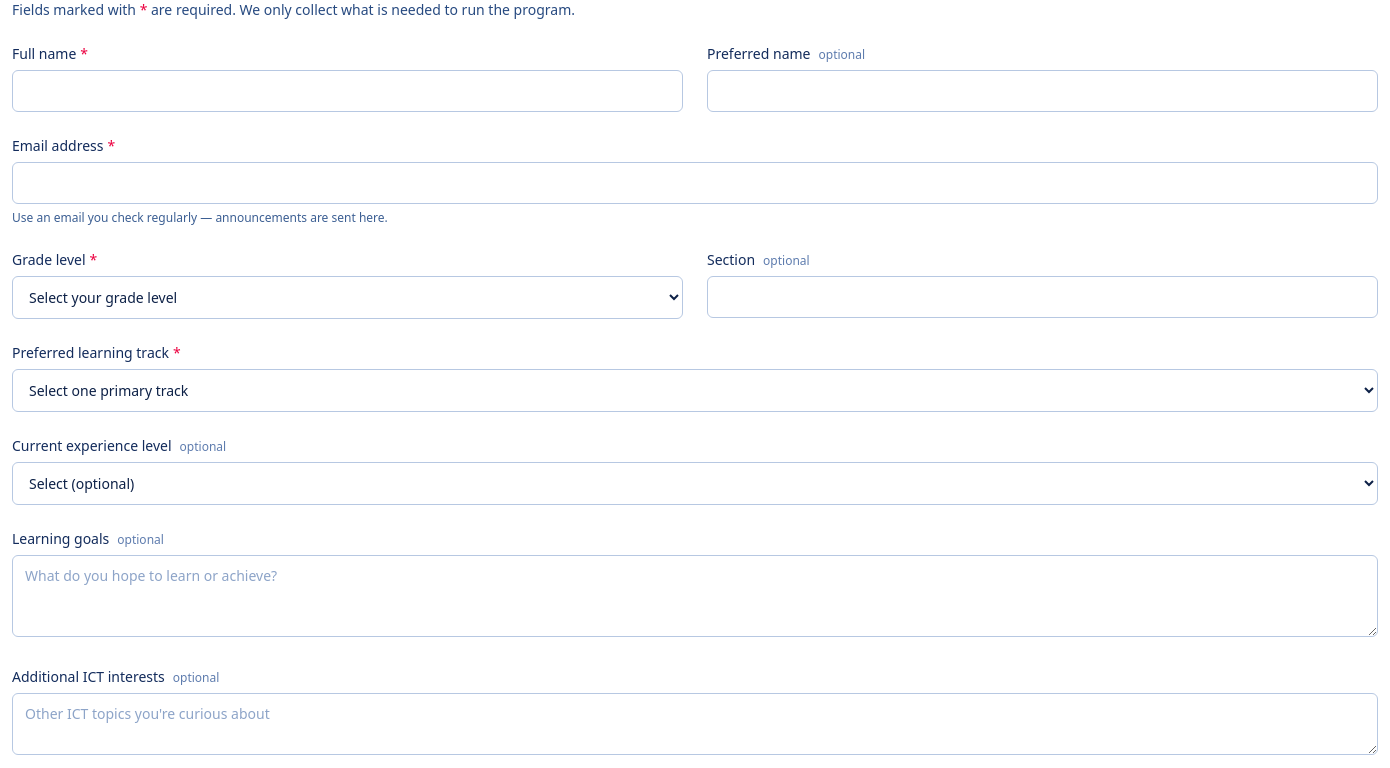
Test case: RegistrationForm › shows understandable inline errors and preserves entered data when submitting invalid input
This screenshot has width=1390, height=768.
Type "J" into the field labelled "Full name*" at (348,91), box [12,70,683,112]
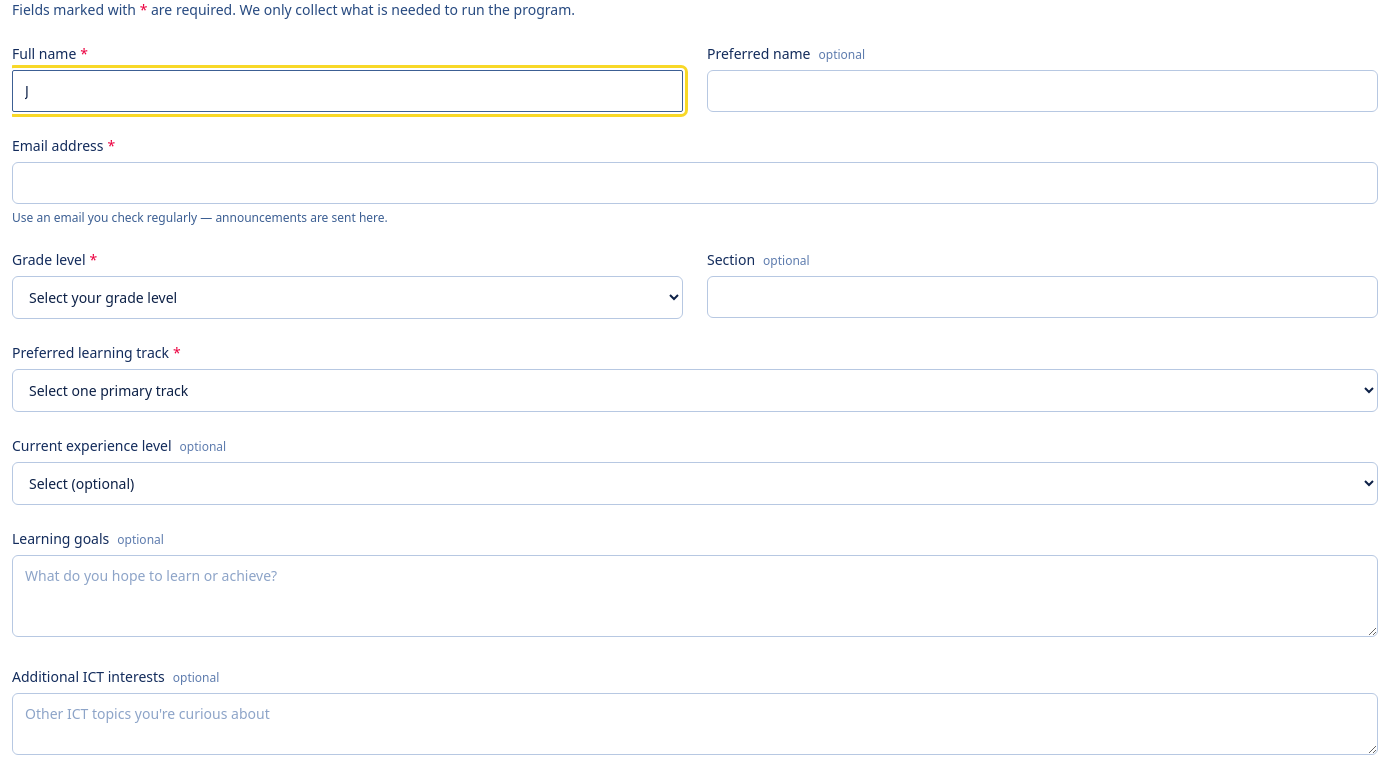
Type "not-an-email" into the field labelled "Email address*" at (695,183), box [12,162,1378,204]
(page scrolled)
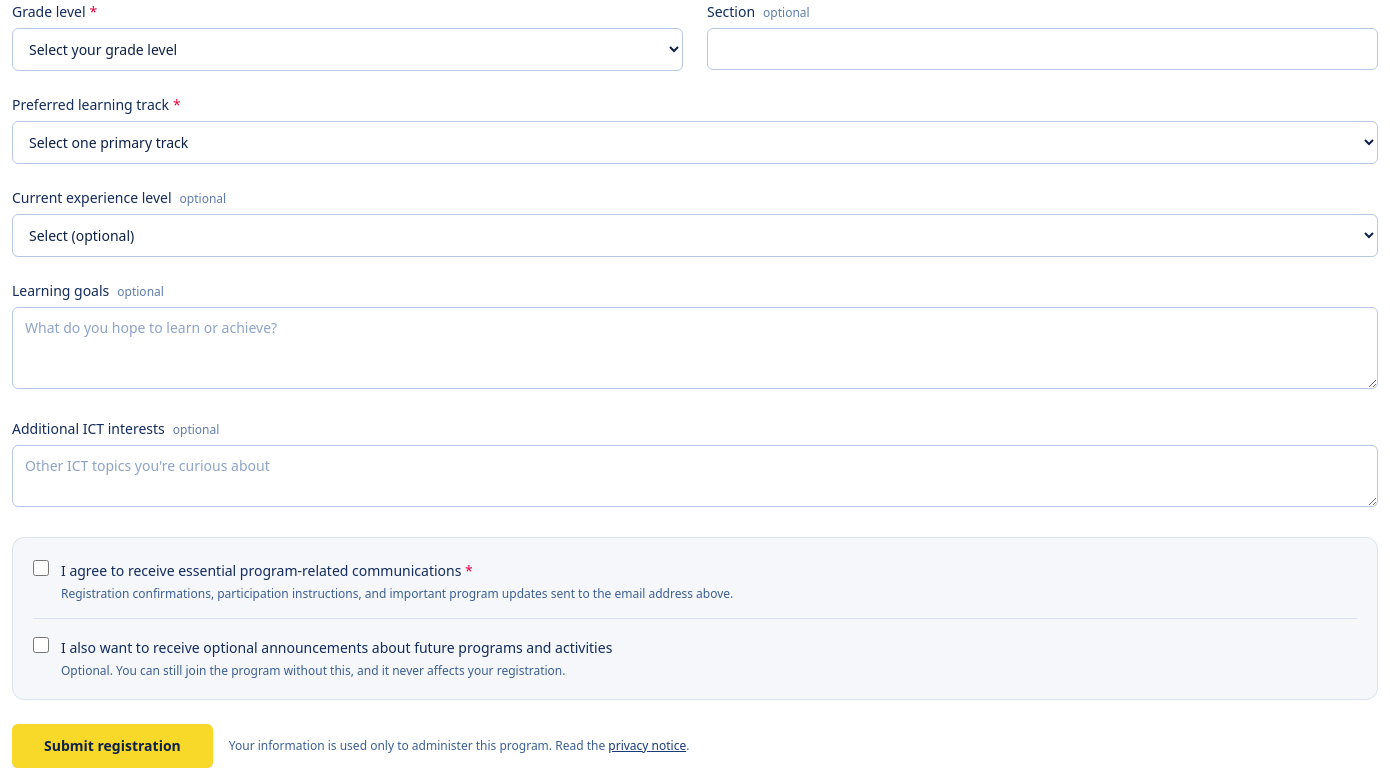
Click the button "Submit registration" at (112,746), box [12,724,213,767]
(page scrolled)
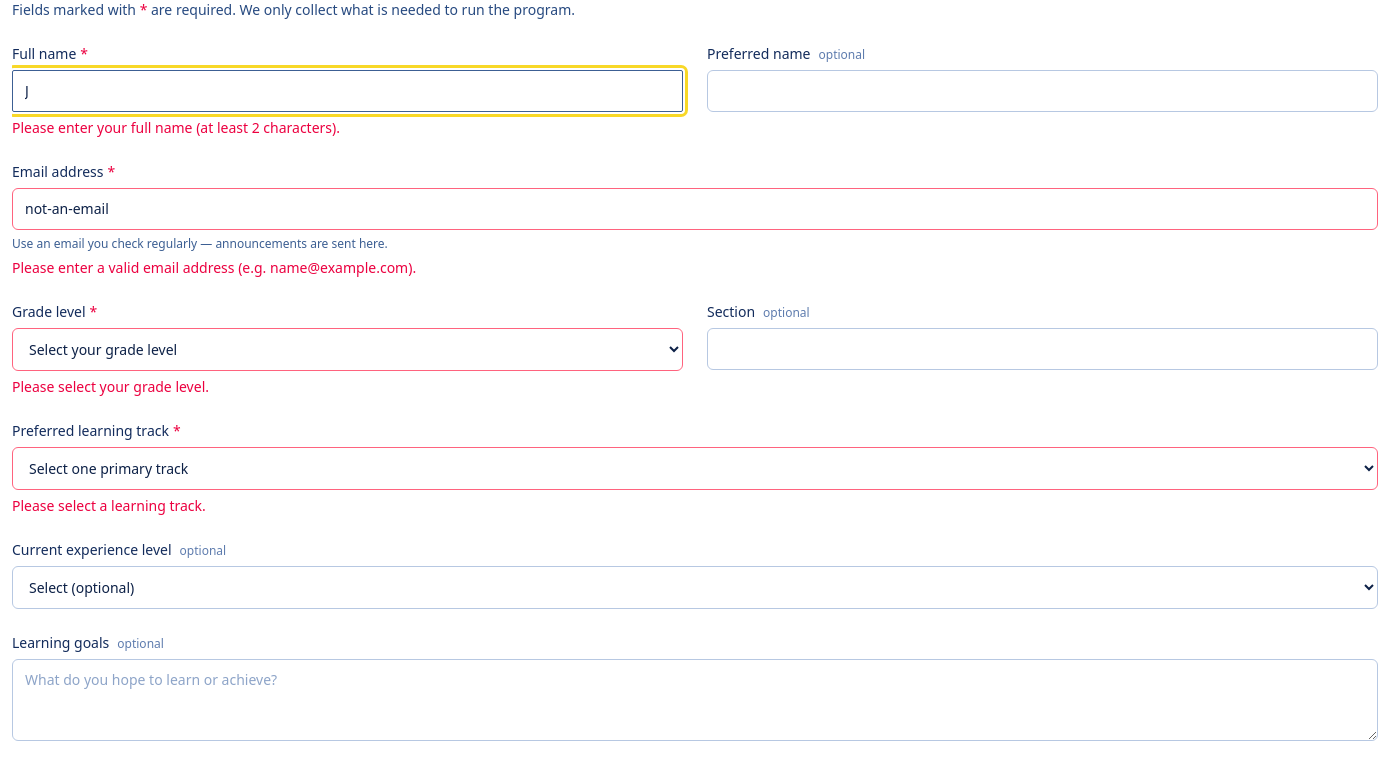
Now the text "Please enter your full name (at least 2 characters)." is shown, box [12,118,340,137]
Now the text "Please enter a valid email address (e.g. name@example.com)." is shown, box [12,258,416,277]
Now the text "Please select your grade level." is shown, box [12,377,209,396]
